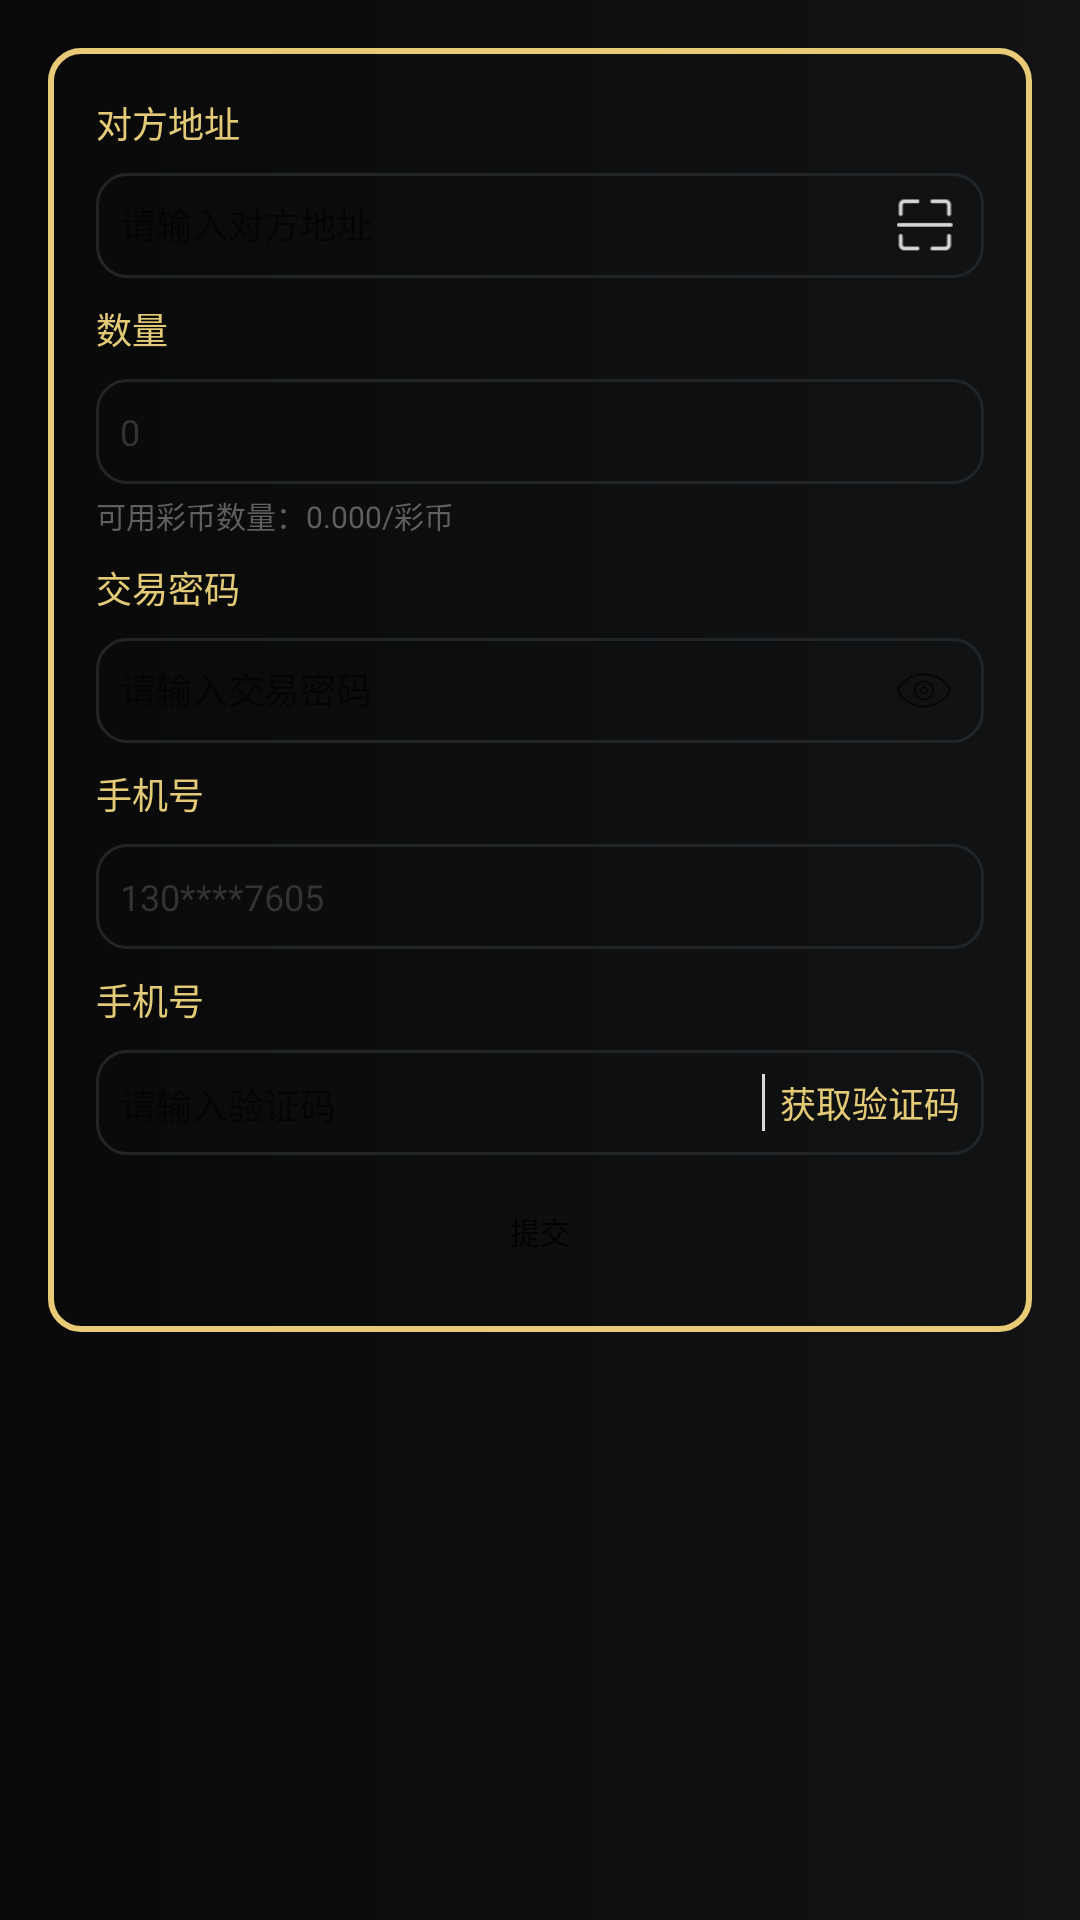

Where to tap for icons on this 1080w x 1920h app screen, as point (x, y):
scan: point (925, 225)
